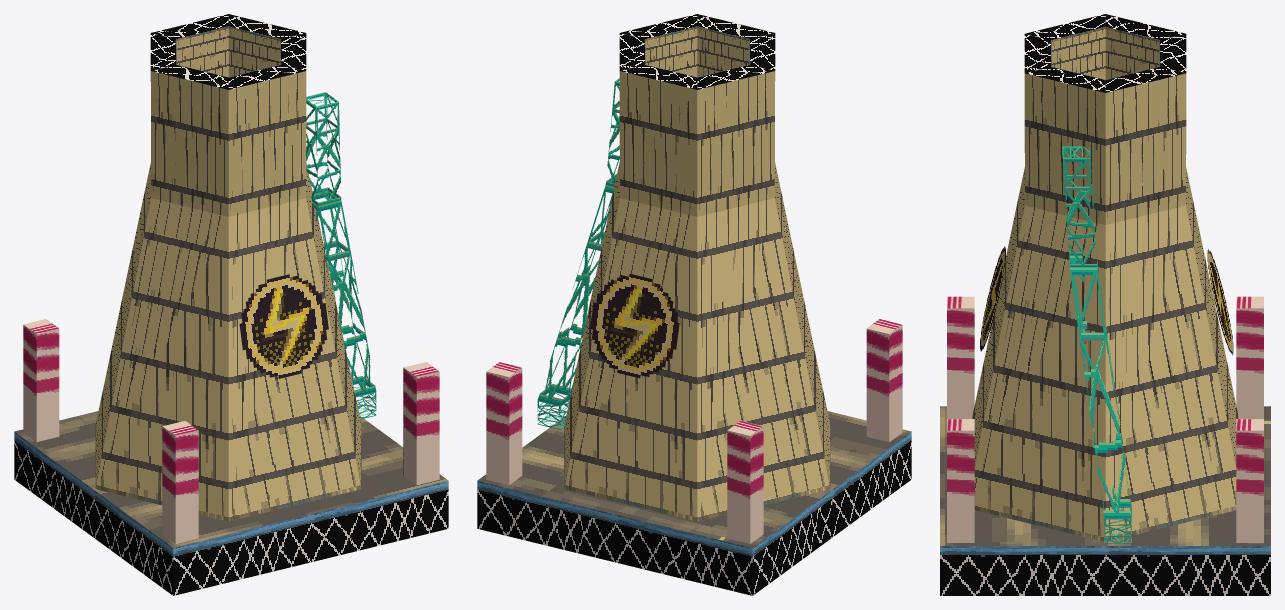
File: power_plant.glb
The picture shows the model from 3 angles, left to right: view 1: azimuth 30°, elevation 25°; view 2: azimuth 150°, elevation 25°; view 3: azimuth 270°, elevation 25°; orthographic projection. The views are drawn at different scales.
Parts seen in each view (by area): view 1: power plant; view 2: power plant; view 3: power plant.
Boxes of the visible parts, x1,y1,x2,y2 form: power plant: (14,14,448,595); power plant: (477,14,911,595); power plant: (940,14,1270,595).
Bounding box in the file's own units: 24.58 × 37.7 × 24.
Materials: 4 (4 with a texture image).
